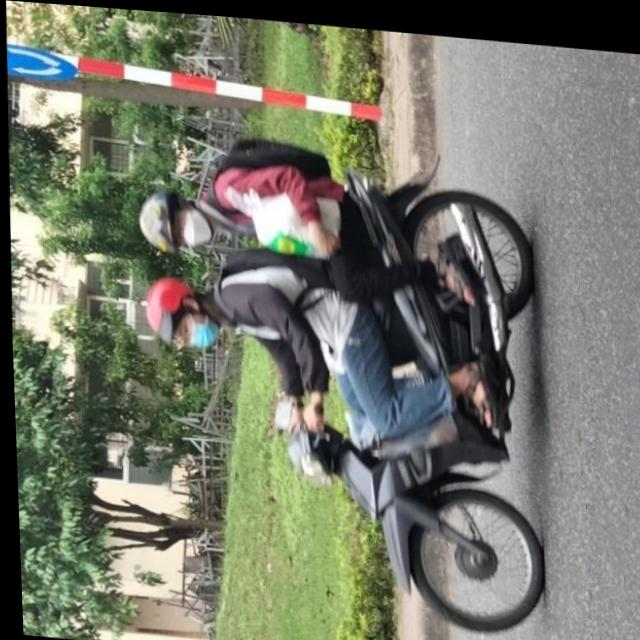WITH_HELMET: (138, 270, 195, 342), (131, 182, 176, 253)
